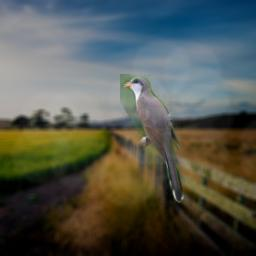Cuckoo: (120, 74, 185, 204)
